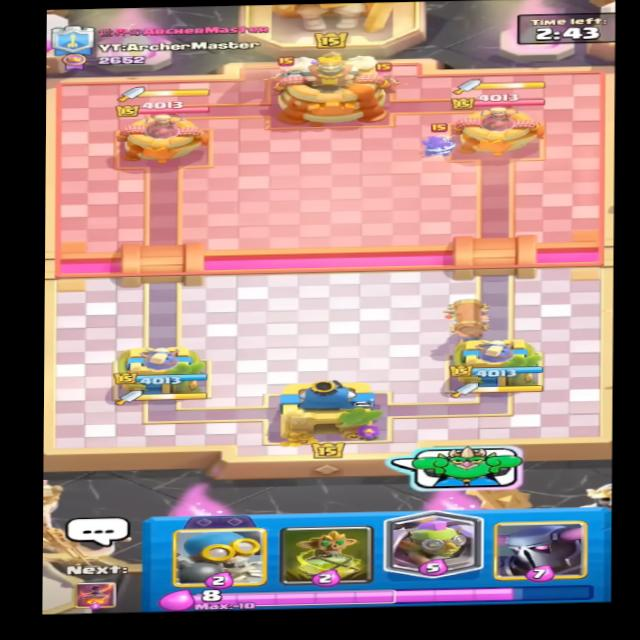Archer: (258, 58, 305, 85), (373, 64, 400, 87)
Espirit: (421, 134, 464, 156)
